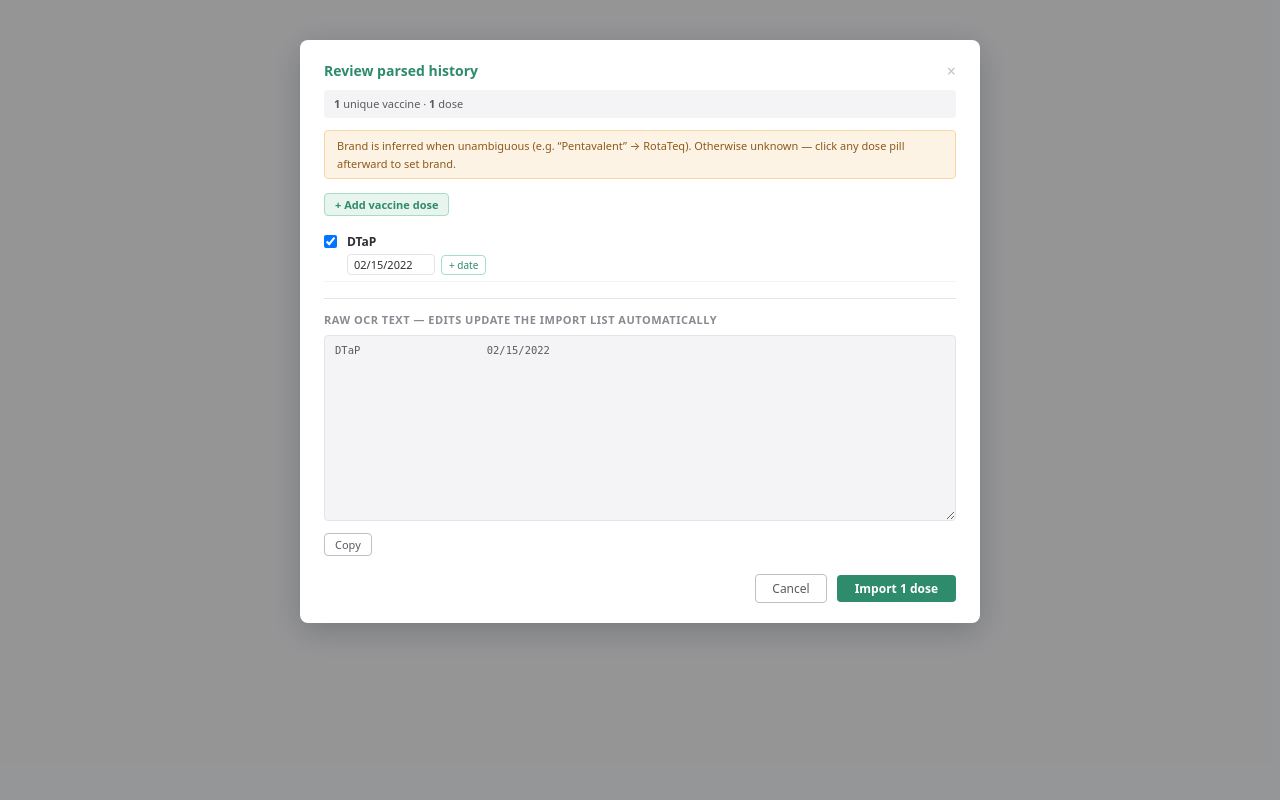
Test: ReviewModal — Feature A: inline + date per row › clicking "+ date" reveals the inline date editor
This screenshot has width=1280, height=800.
Step 1. Click the button with test id "ocr-add-date-btn-0" → [464, 265], box [441, 255, 486, 275]
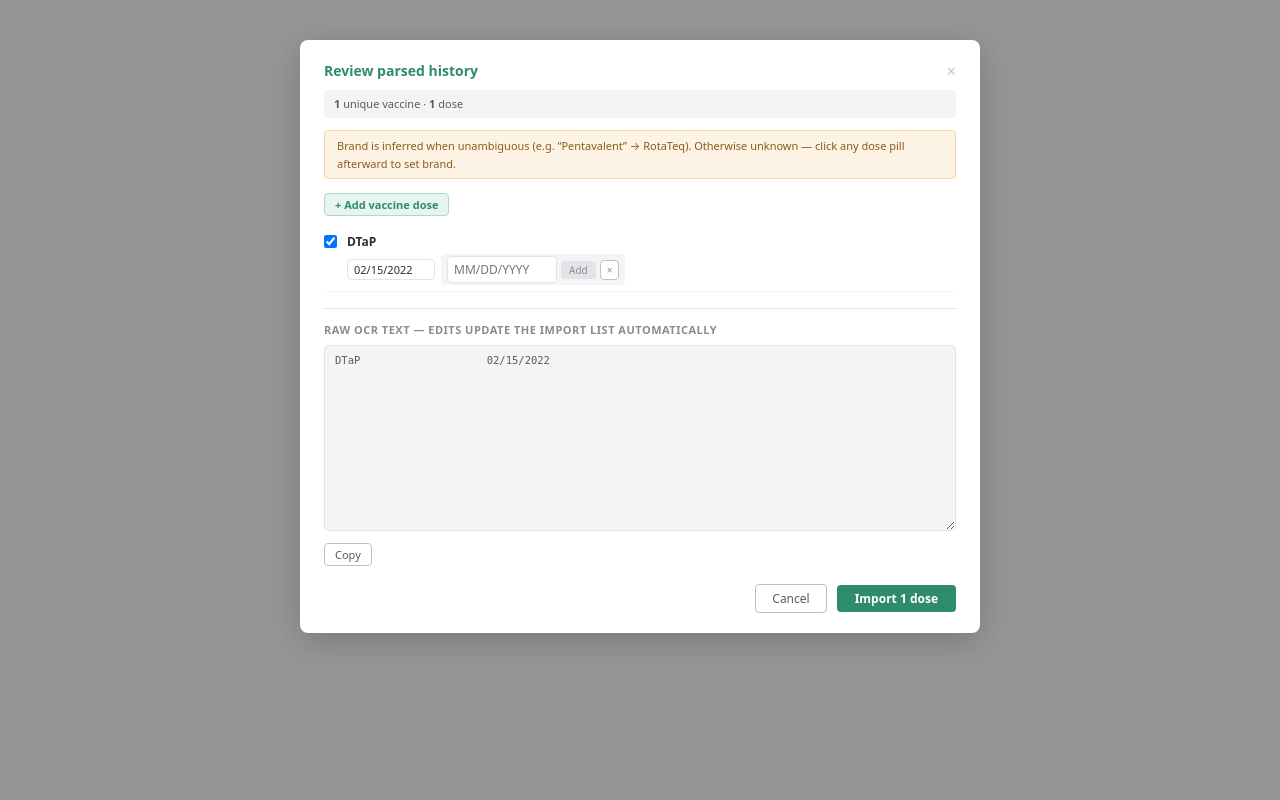
expect the element with test id "ocr-add-date-editor-0" is shown: met, box [441, 254, 625, 285]
expect the button with test id "ocr-add-date-btn-0" is gone: met
